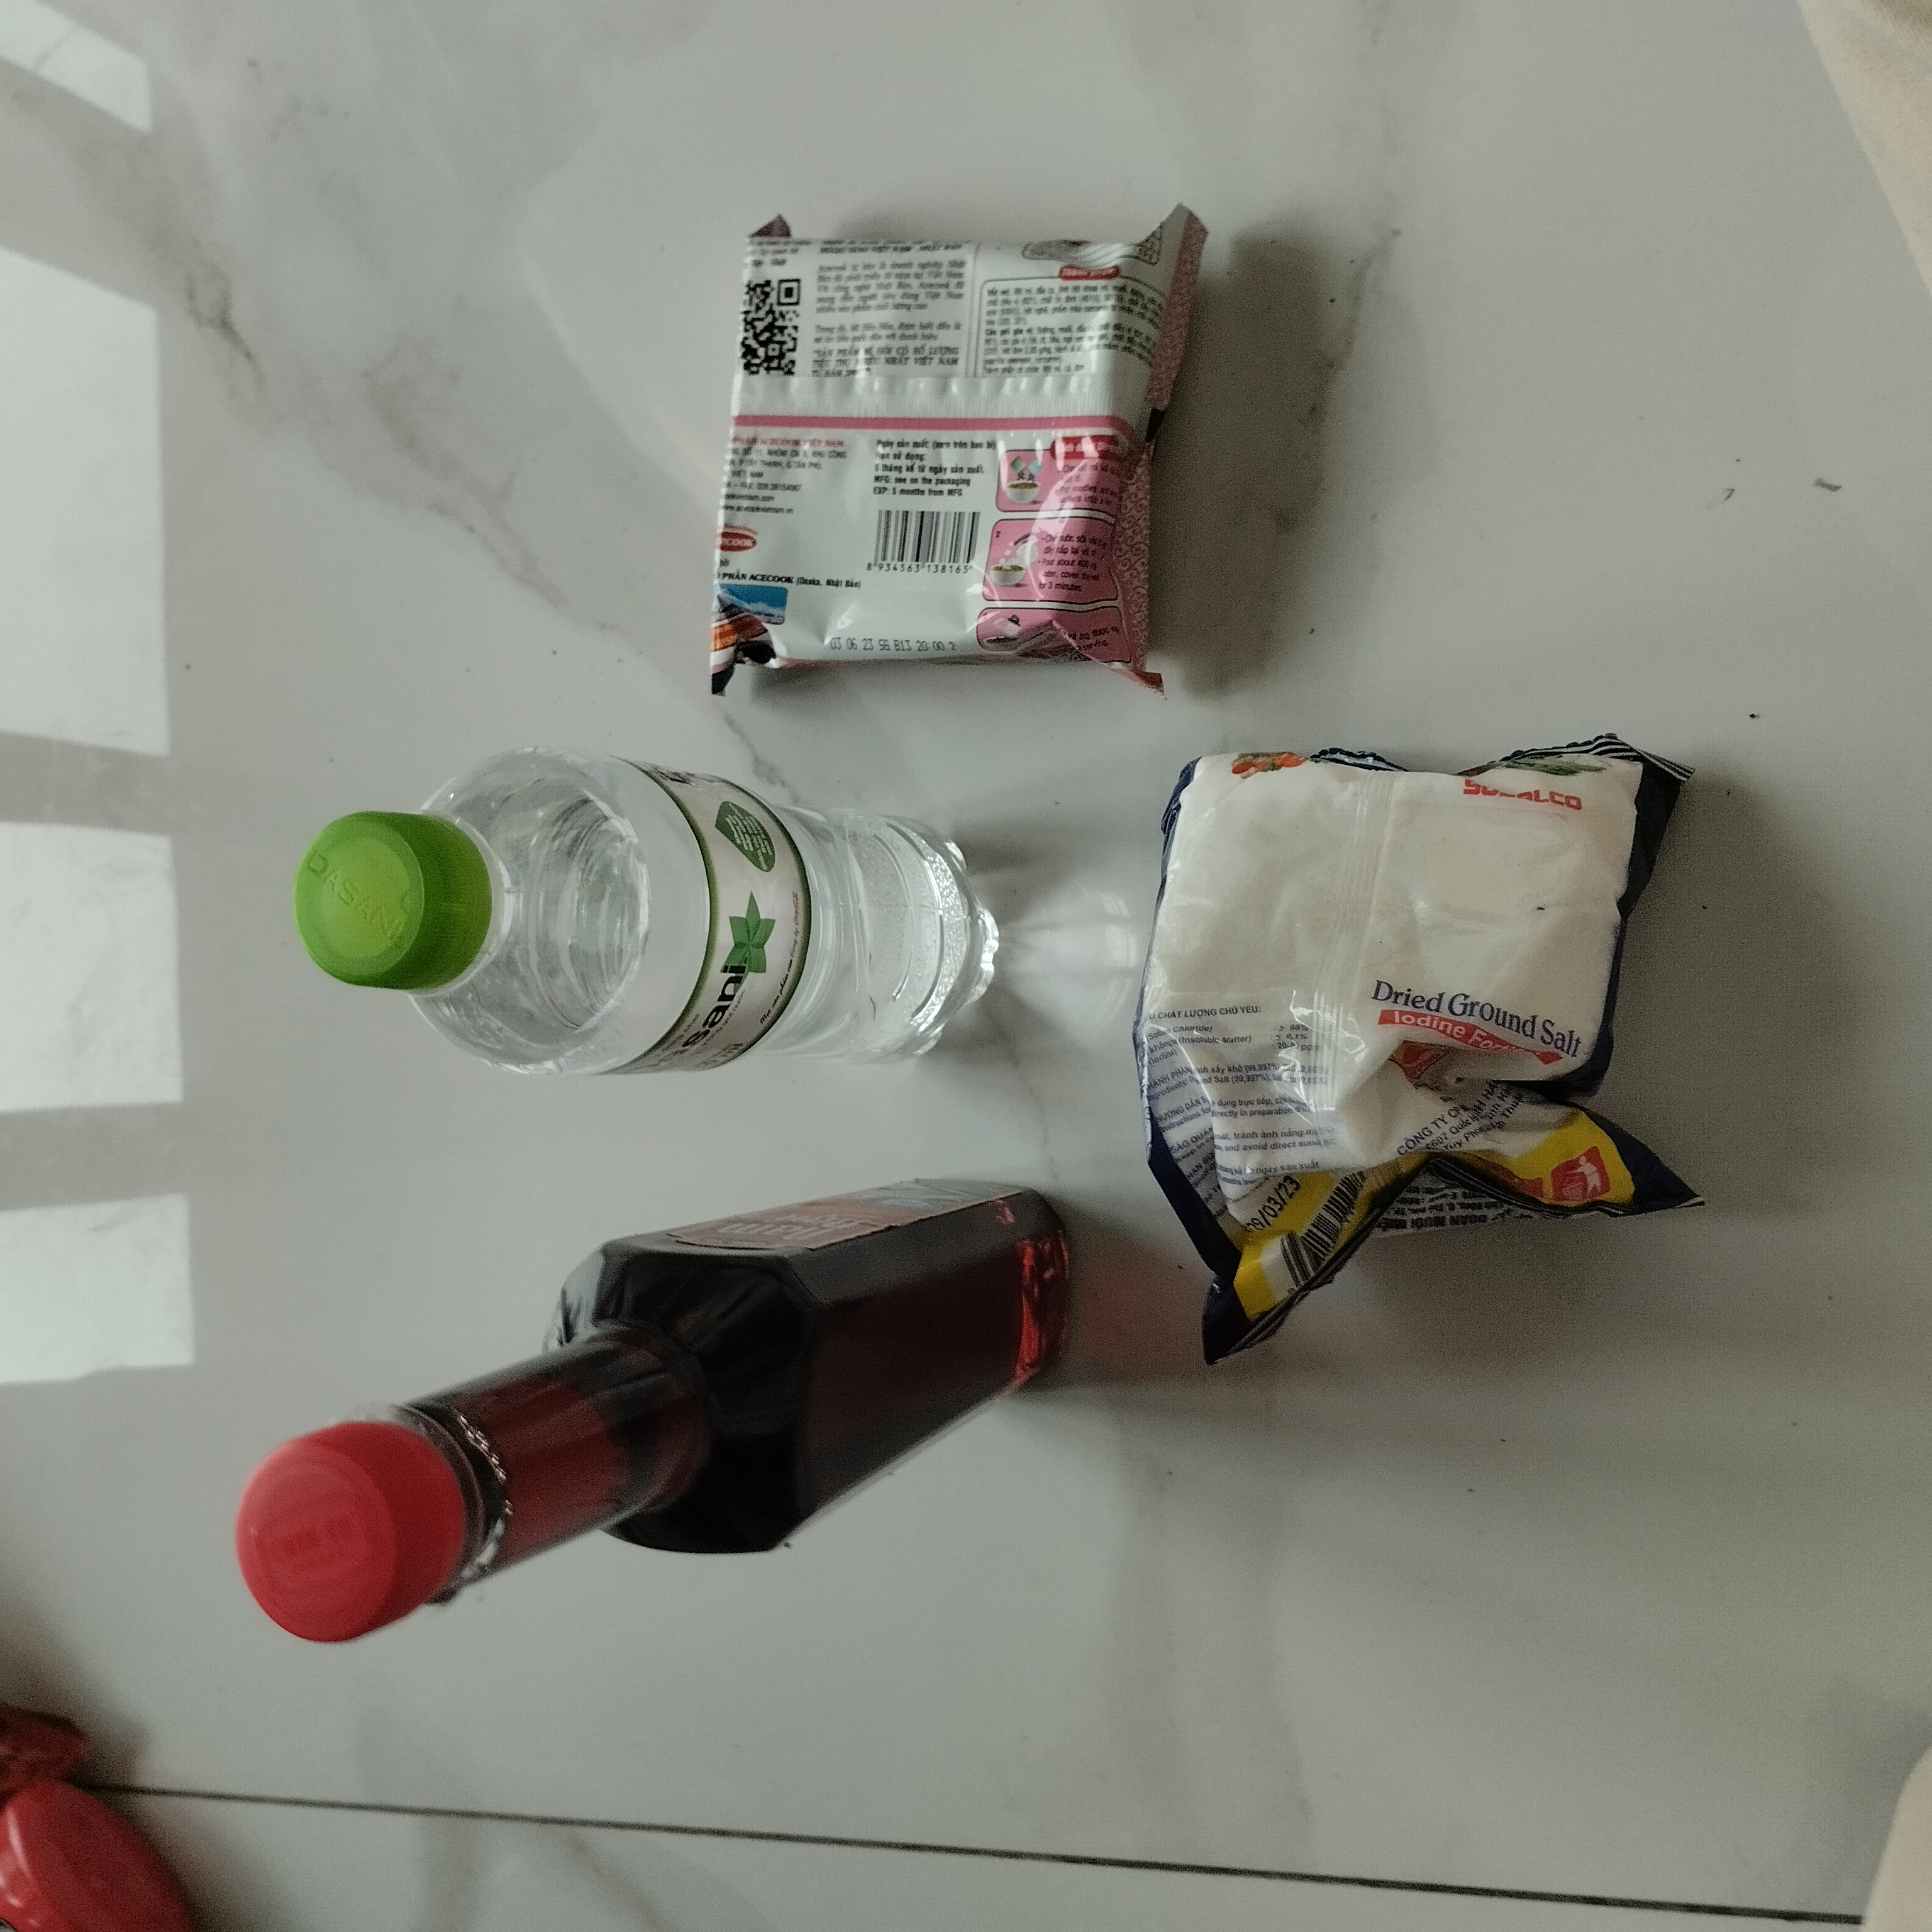Dasani: (297, 741, 1016, 1104)
Haohao: (690, 211, 1226, 708)
Namngu: (214, 1155, 1079, 1760)
Salt: (1125, 724, 1711, 1368)
